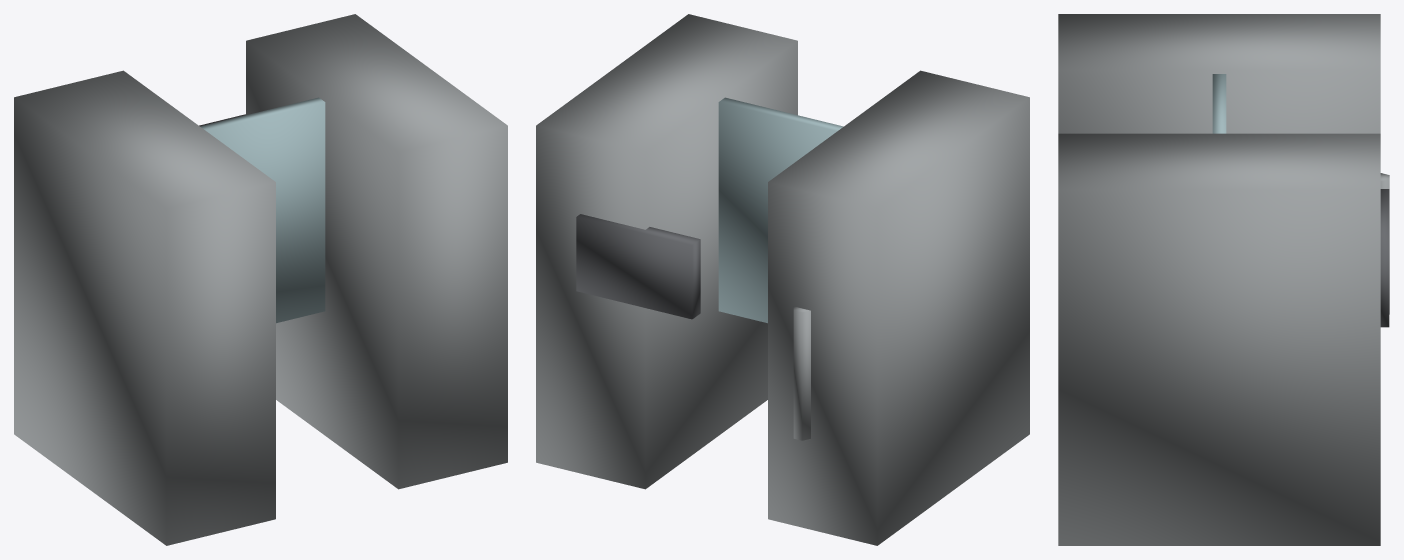
File: fare_gate__service.glb
3 views of the same model, side by side, from view 1: azimuth 30°, elevation 25°; view 2: azimuth 150°, elevation 25°; view 3: azimuth 270°, elevation 25° (orthographic). The views are drawn at different scales.
Visible parts, largest first — view 1: world; view 2: world; view 3: world.
Boxes of the visible parts, x1,y1,x2,y2 form: world: (14, 14, 507, 545); world: (536, 14, 1029, 545); world: (1058, 14, 1389, 545).
Size of the model in its own units: 1.06 by 1 by 0.8429.
